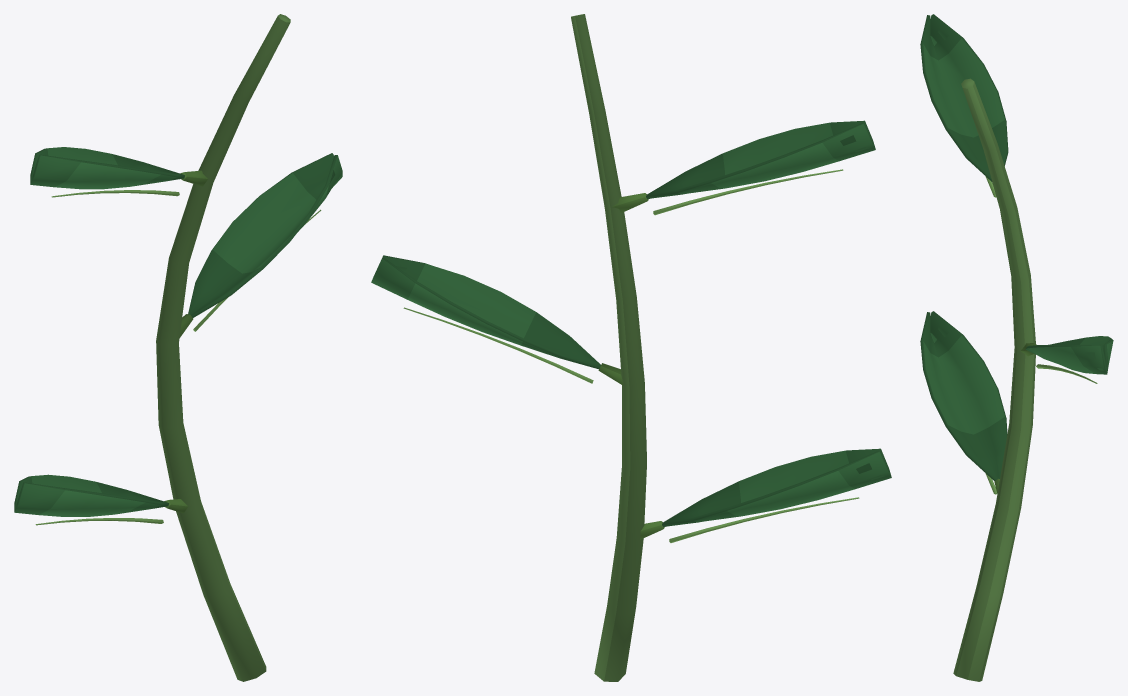
File: garden-zinnia-bud-stem-1.glb
3 views of the same model, side by side, from view 1: azimuth 30°, elevation 25°; view 2: azimuth 150°, elevation 25°; view 3: azimuth 270°, elevation 25° (orthographic). The views are drawn at different scales.
Visible parts, largest first — view 1: zinnia-bud-stem-1; view 2: zinnia-bud-stem-1; view 3: zinnia-bud-stem-1.
Boxes of the visible parts, left/top/right/bottom form: zinnia-bud-stem-1: left=14, top=14, right=342, bottom=681; zinnia-bud-stem-1: left=371, top=14, right=891, bottom=681; zinnia-bud-stem-1: left=920, top=14, right=1113, bottom=681.
Bounding box in the file's own units: 0.2108 × 0.3112 × 0.0884.
